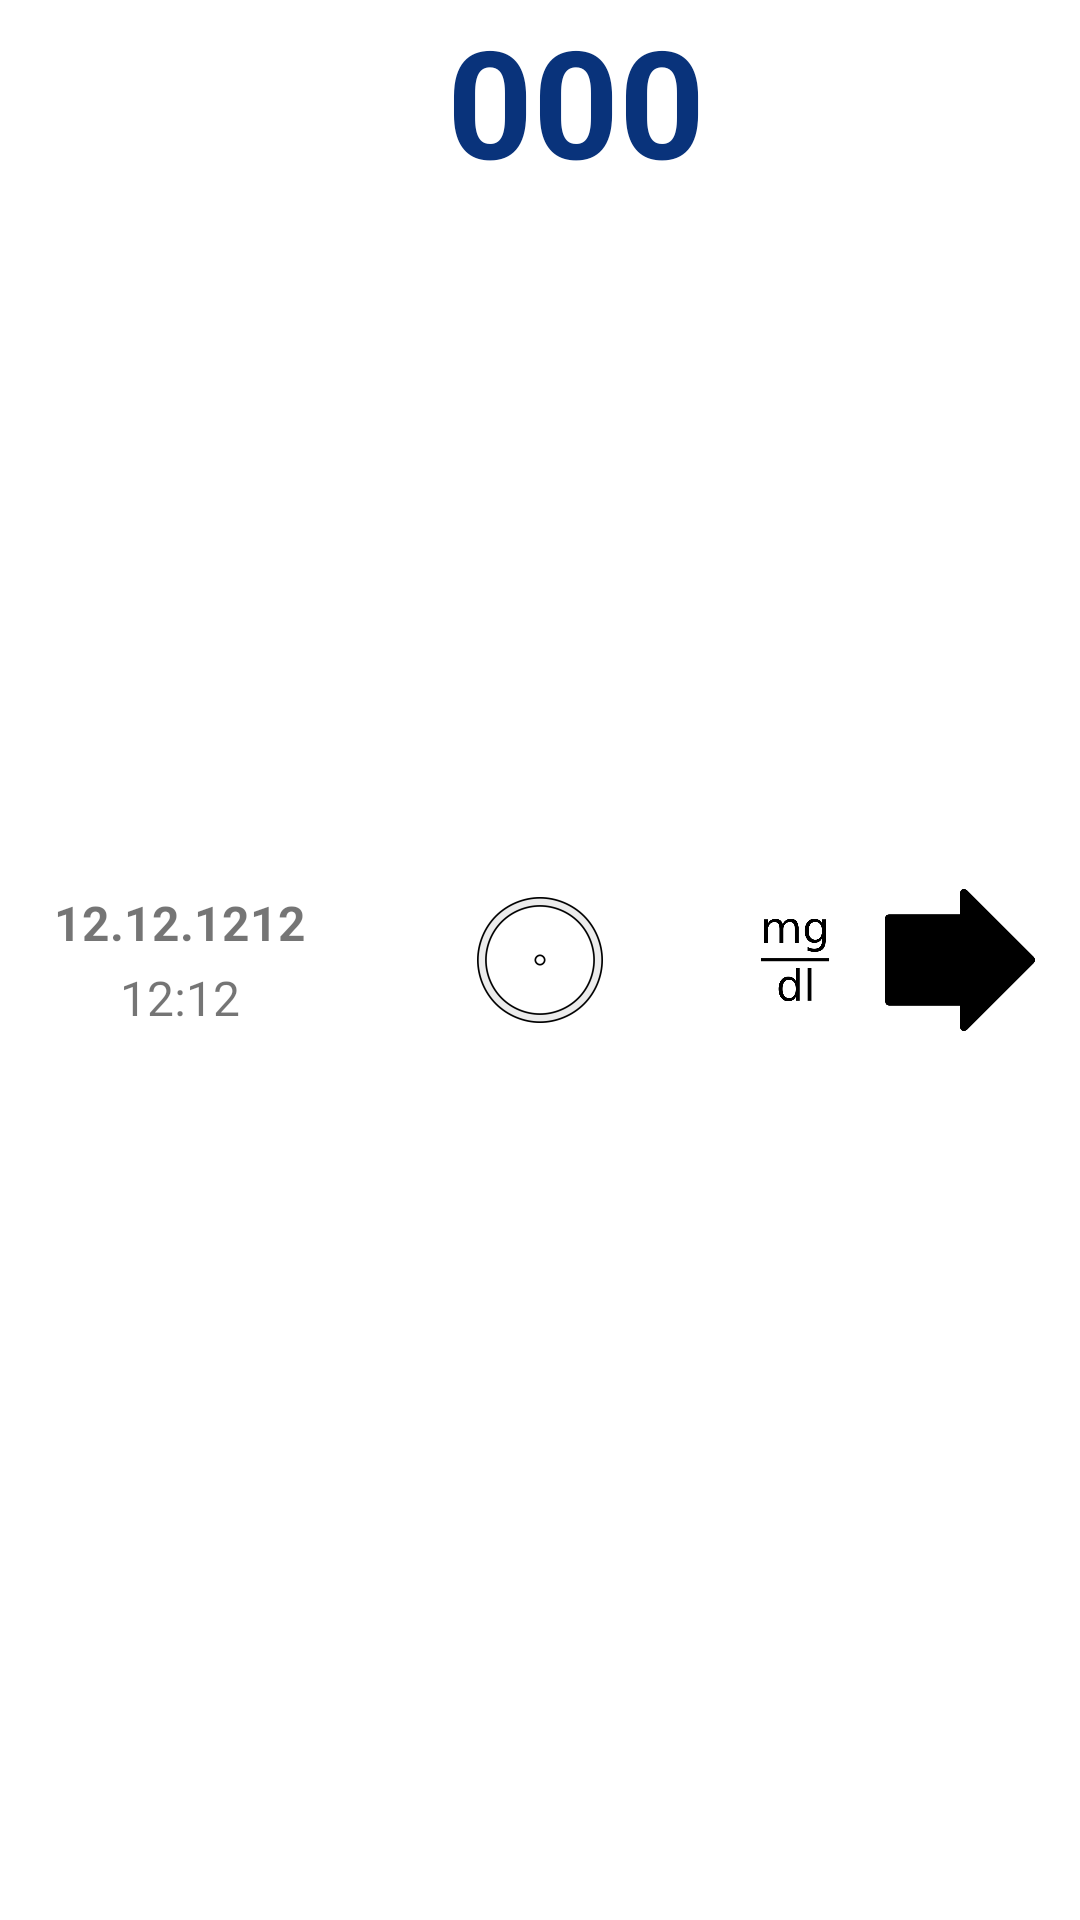

Locate icon controls on the screen. Image size 1080px×1920px, boxes as (x1, y1, x2, y2).
arrow: (885, 889, 1035, 1031)
